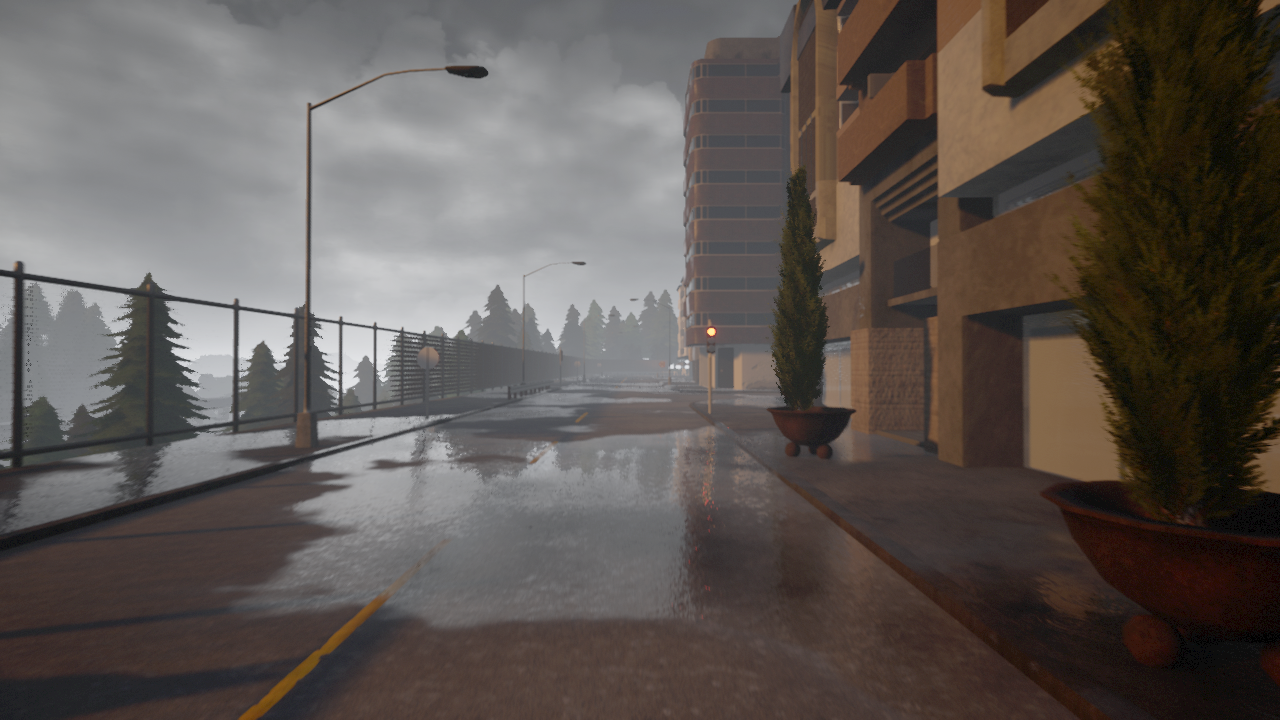red: (705, 326, 717, 354)
